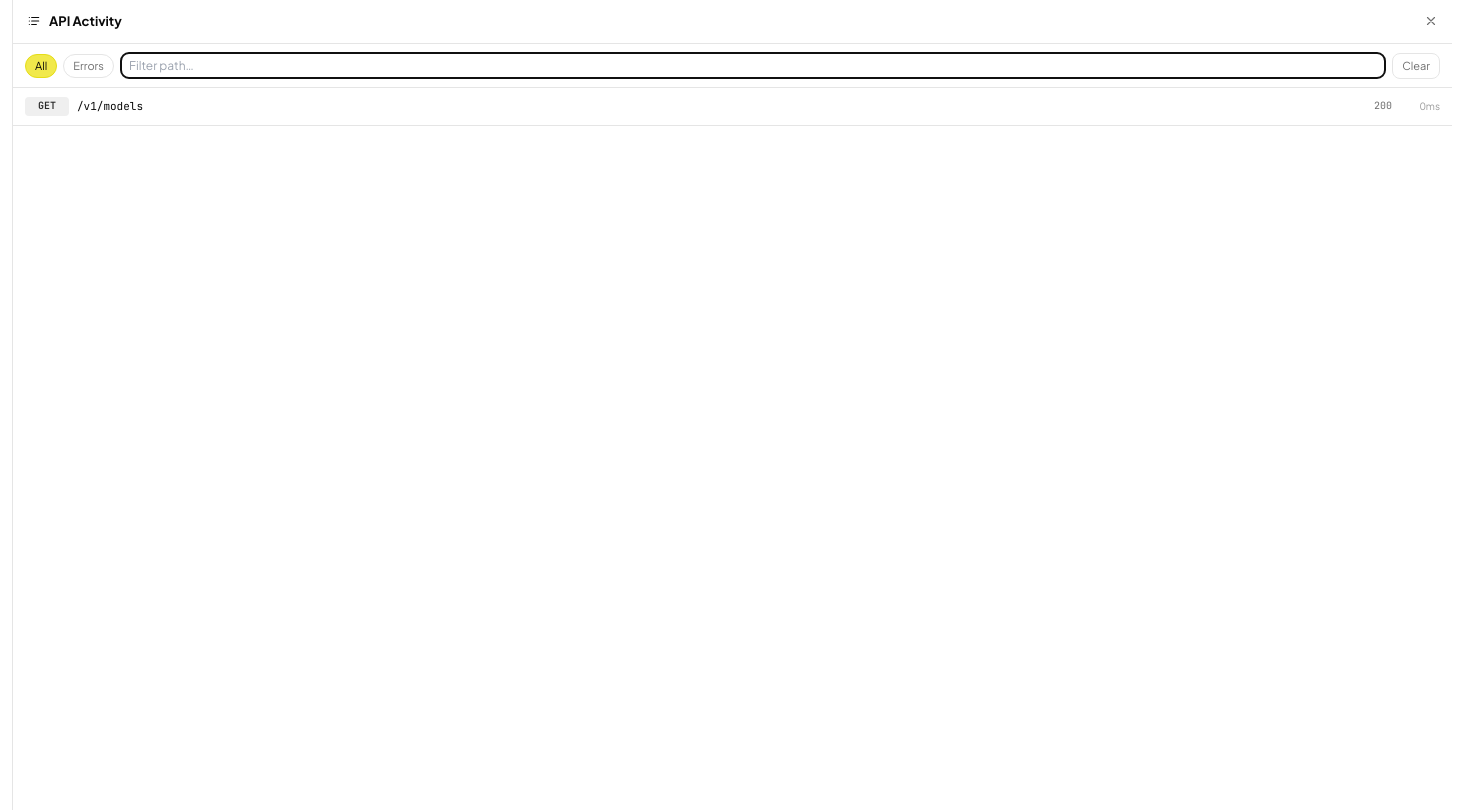
it: ApiActivityPanel › clears the log via the Clear button
Check: the text "/v1/models" is shown, box [77,98,143,112]
Click the button "Clear".
click(1416, 66)  # box [1392,53,1440,78]
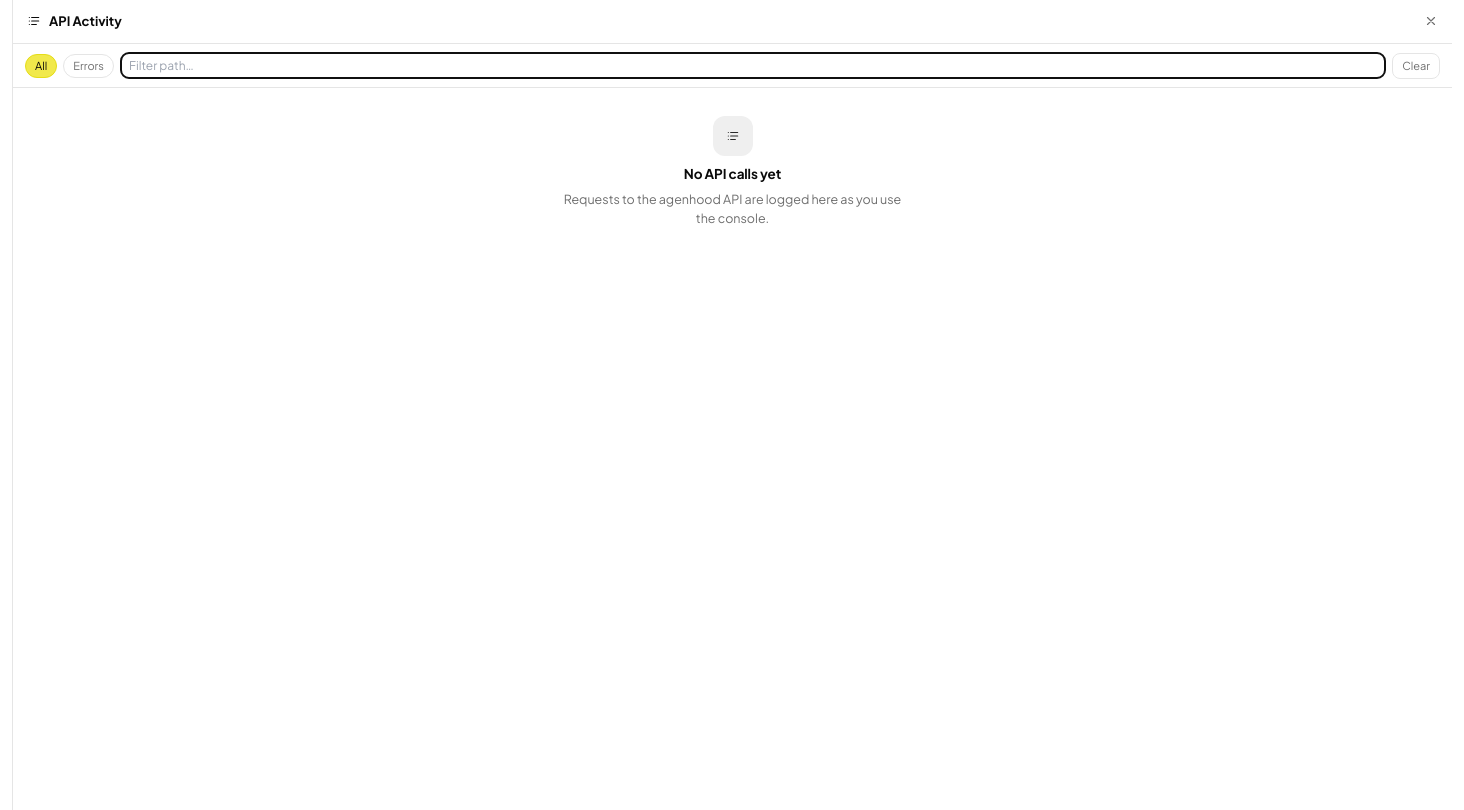
Check: the button "/v1/models" is gone
